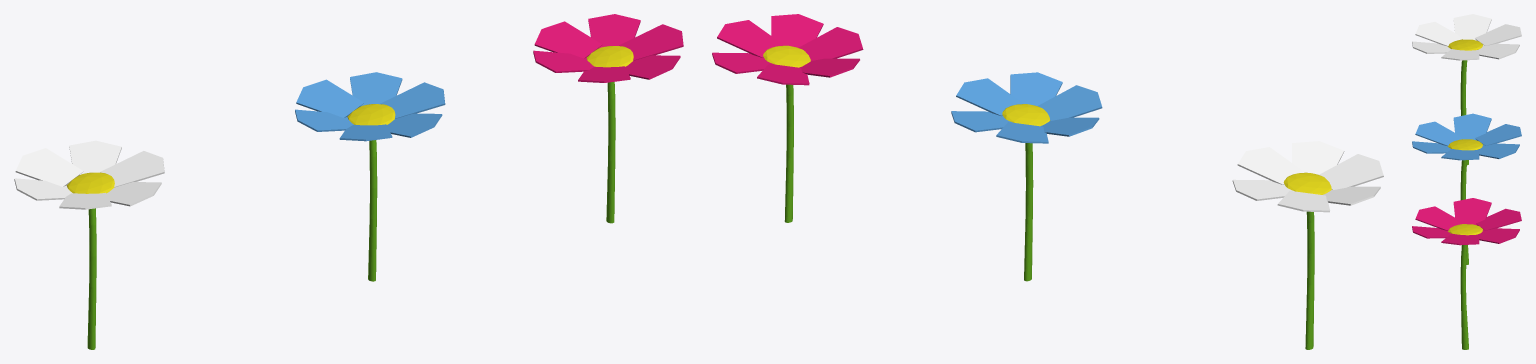
The model's file is flowers.fbx.
3 renders of one model, left to right at view 1: azimuth 30°, elevation 25°; view 2: azimuth 150°, elevation 25°; view 3: azimuth 270°, elevation 25°, orthographic. The views are drawn at different scales.
Parts seen in each view (by area): view 1: Icosphere.002, Cube.001, Cube.009; view 2: Cube.001, Icosphere.002, Cube.009; view 3: Cube.009, Icosphere.002, Cube.001.
Boxes of the visible parts, x1,y1,x2,y2 form: Icosphere.002: (14, 140, 164, 349); Cube.001: (295, 72, 445, 281); Cube.009: (533, 14, 683, 223); Cube.001: (951, 72, 1102, 281); Icosphere.002: (1232, 141, 1383, 349); Cube.009: (712, 14, 863, 222); Cube.009: (1412, 198, 1521, 349); Icosphere.002: (1412, 14, 1521, 165); Cube.001: (1412, 113, 1521, 264).
Size of the model in its own units: 3482 by 896 by 693.
